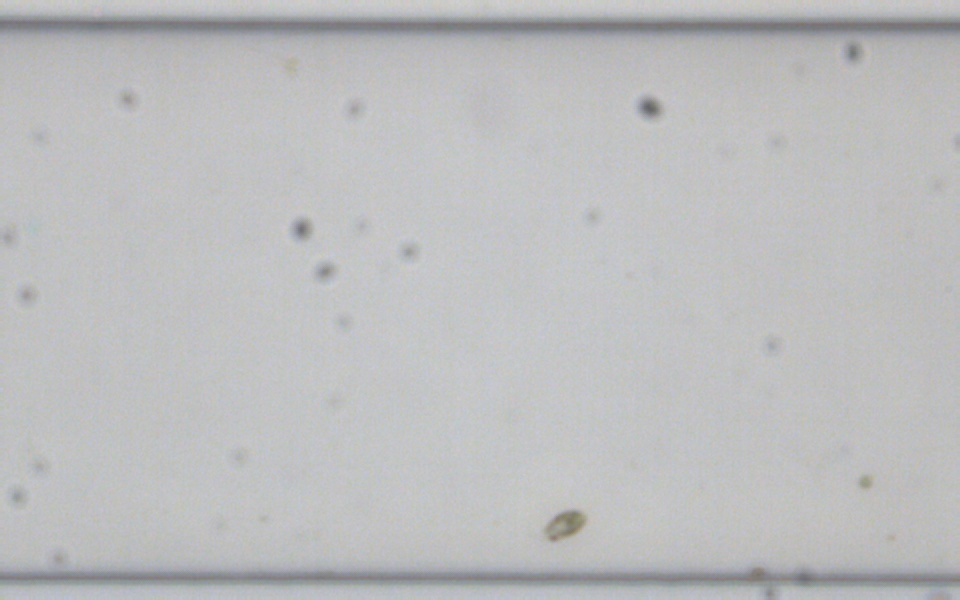Chlorella: (857, 473, 872, 488)
Dunaliella salina: (540, 506, 589, 543)
